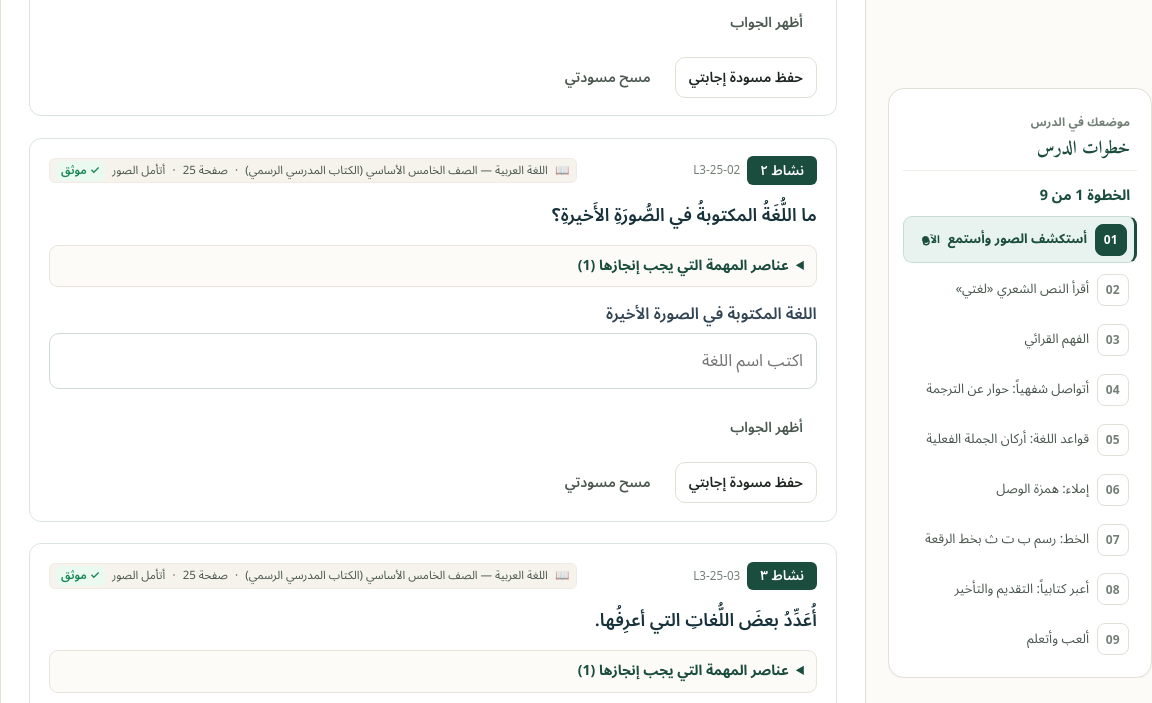
Test: Audit fix 3 — real draft saving and restoration (Lesson 3) › does not claim a saved draft when storage fails
(page scrolled)
Type "محاولة" into the field labelled "اللغة المكتوبة في الصورة الأخيرة" at (433, 361), box [49,333,817,389]
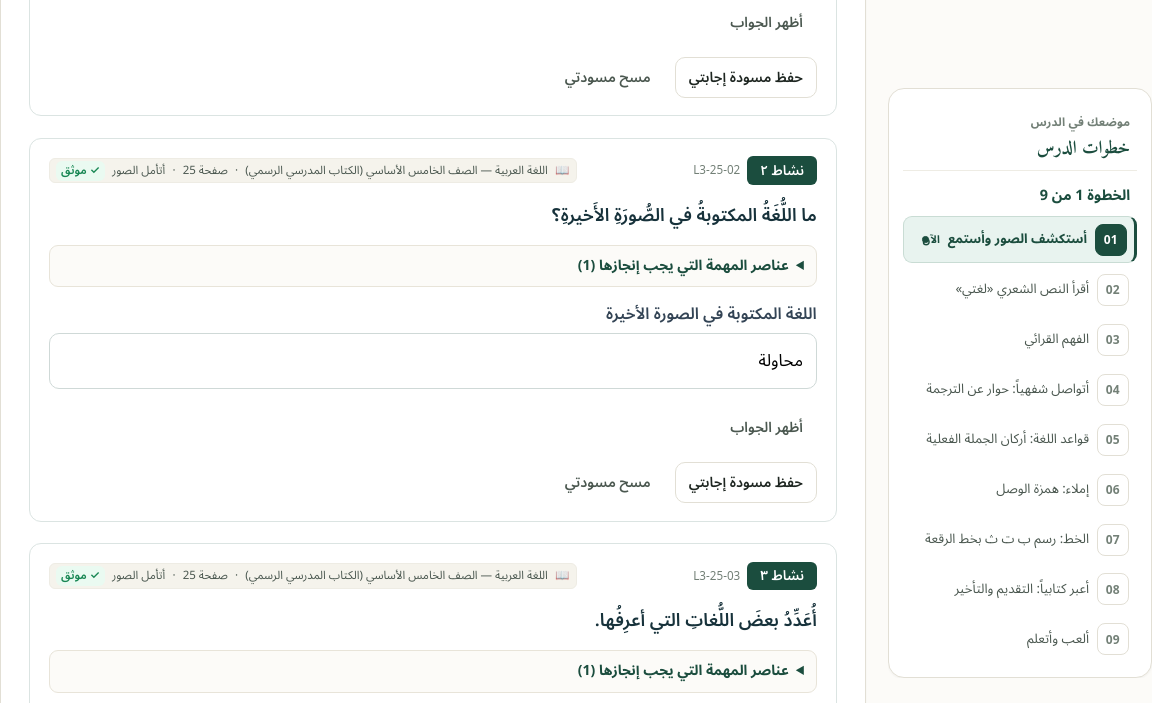
Click the button "حفظ مسودة إجابتي" below "اللغة المكتوبة في الصورة الأخيرة" at (746, 483), box [675,462,817,503]
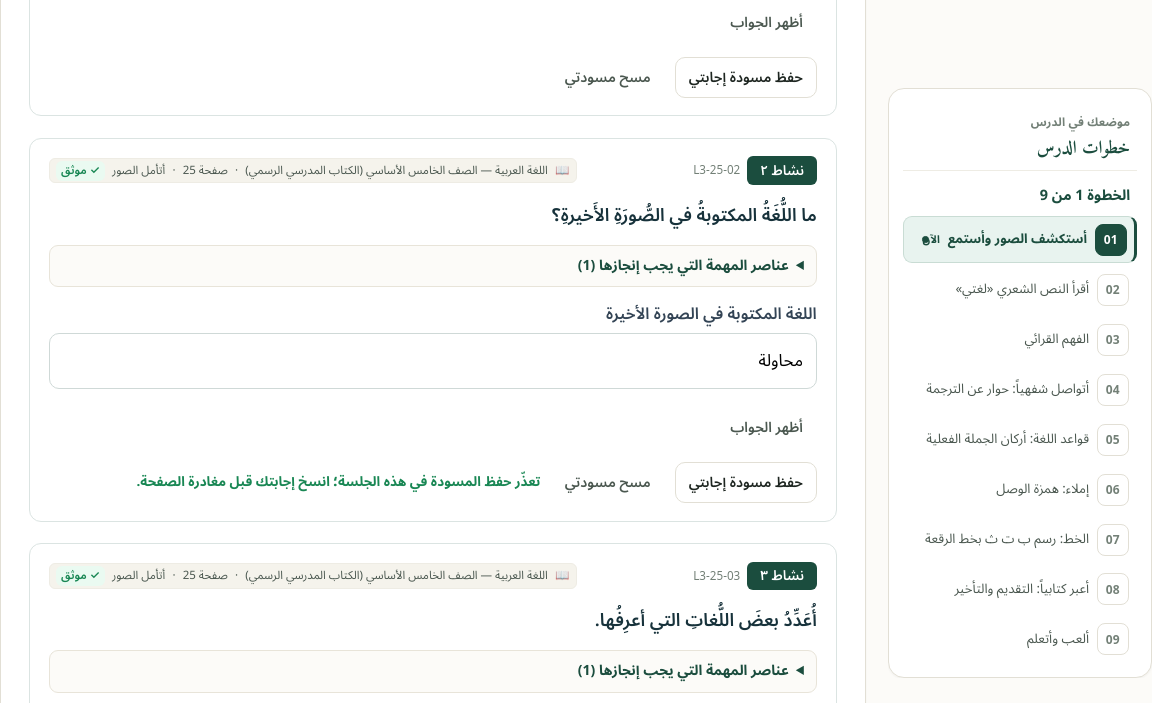
Check: the message shows "تعذّر حفظ المسودة", box [136,468,540,496]
